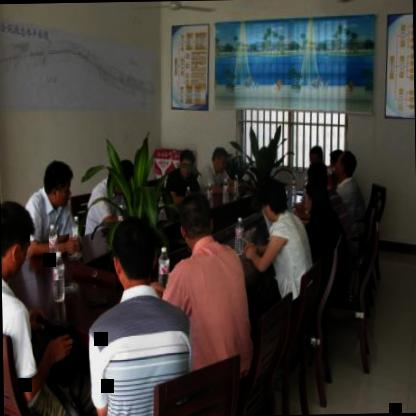head: (108, 215, 161, 291), (0, 195, 34, 285), (174, 188, 213, 243), (41, 158, 75, 211), (258, 178, 290, 223), (302, 177, 330, 216), (331, 147, 359, 182), (108, 160, 136, 194), (175, 148, 197, 180), (207, 145, 230, 175), (307, 158, 329, 186), (308, 143, 323, 167)
